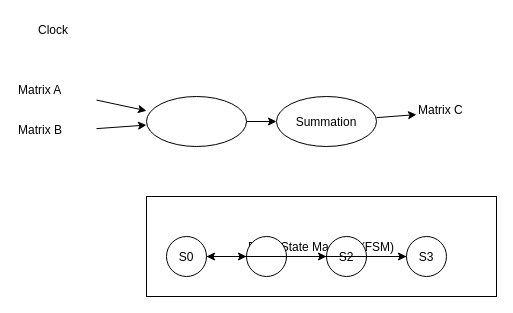
The diagram is 513 pixels wide and 313 high, and some of its shapes have lost their labels. Each missing label, with the centre of its shape:
Multiplication: point (196, 121)
S1: point (266, 256)
